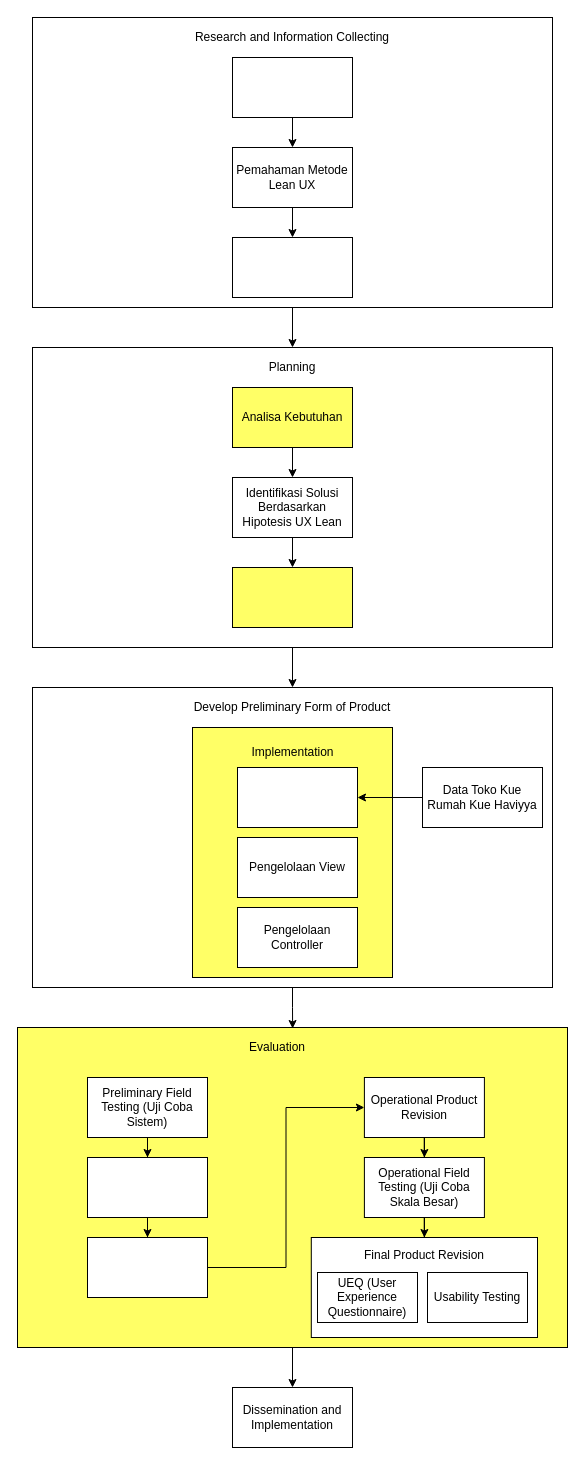
Image size: 585x1465. Some labels were removed from this diagram. Each missing label, with the centre of its shape:
"Desain Perangkat Lunak Berupa Prototype" goes at point (292, 597).
"Main Field Testing (Uji Coba Data Toko Kue)" goes at point (147, 1267).
"Main Product Revision" goes at point (147, 1187).
"Observasi" goes at point (292, 267).
"Pengelolaan Model" goes at point (297, 797).
"Pengumpulan Informasi" goes at point (292, 87).
